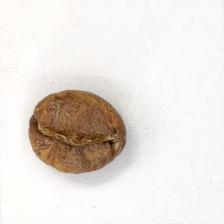NG: (31, 93, 122, 169)
